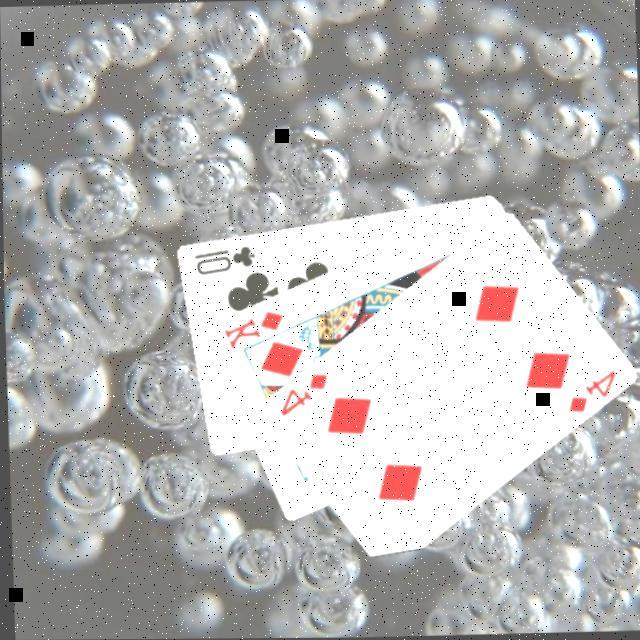10C: (190, 242, 259, 277)
4D: (274, 370, 332, 421), (562, 368, 620, 418)
KD: (218, 307, 288, 353)
